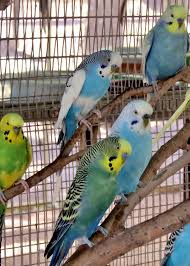budgie: (43, 137, 133, 266), (47, 48, 122, 148), (141, 5, 190, 94), (1, 105, 33, 211), (112, 99, 157, 138)
